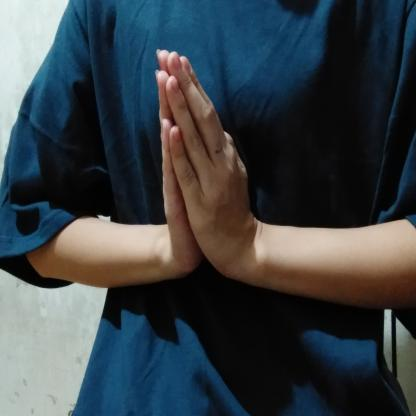sorry: (136, 40, 281, 292)
